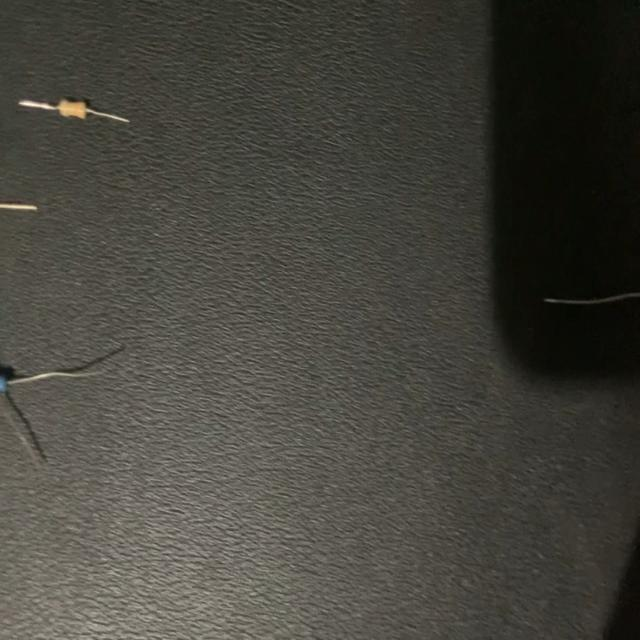resistor: (15, 89, 134, 146)
